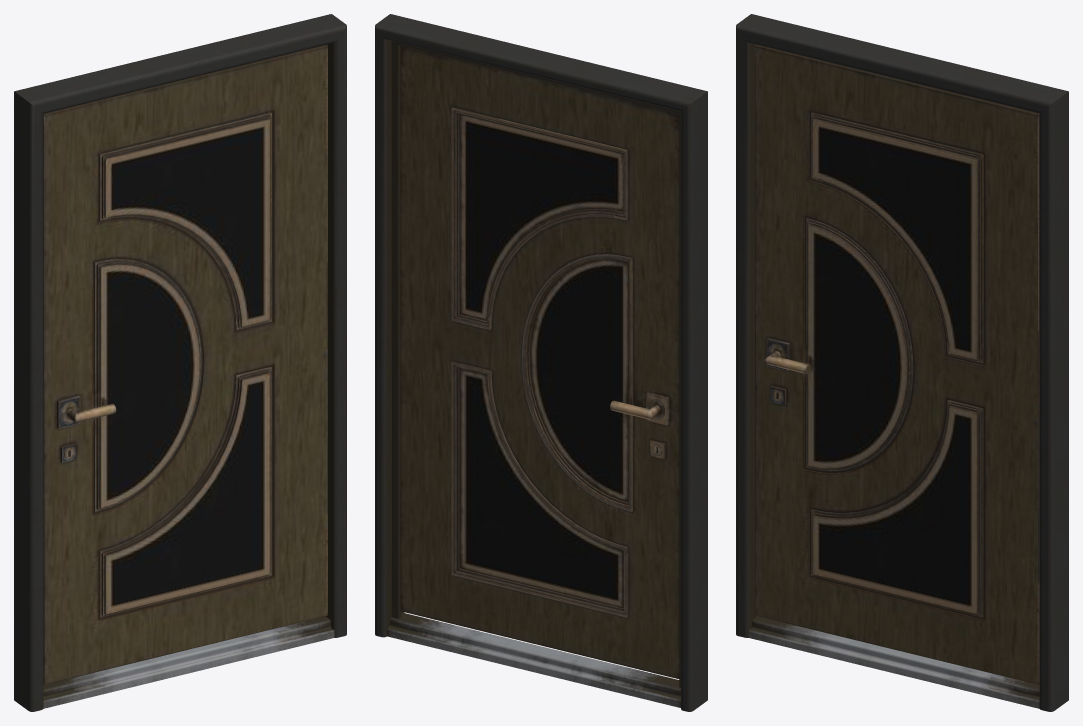
Rendered from metal_door.glb.
3 renders of one model, left to right at view 1: azimuth 30°, elevation 25°; view 2: azimuth 150°, elevation 25°; view 3: azimuth 330°, elevation 25°, orthographic.
Size of the model in its own units: 1.34 by 2.46 by 0.2057.
Materials: 2 (2 with a texture image).
